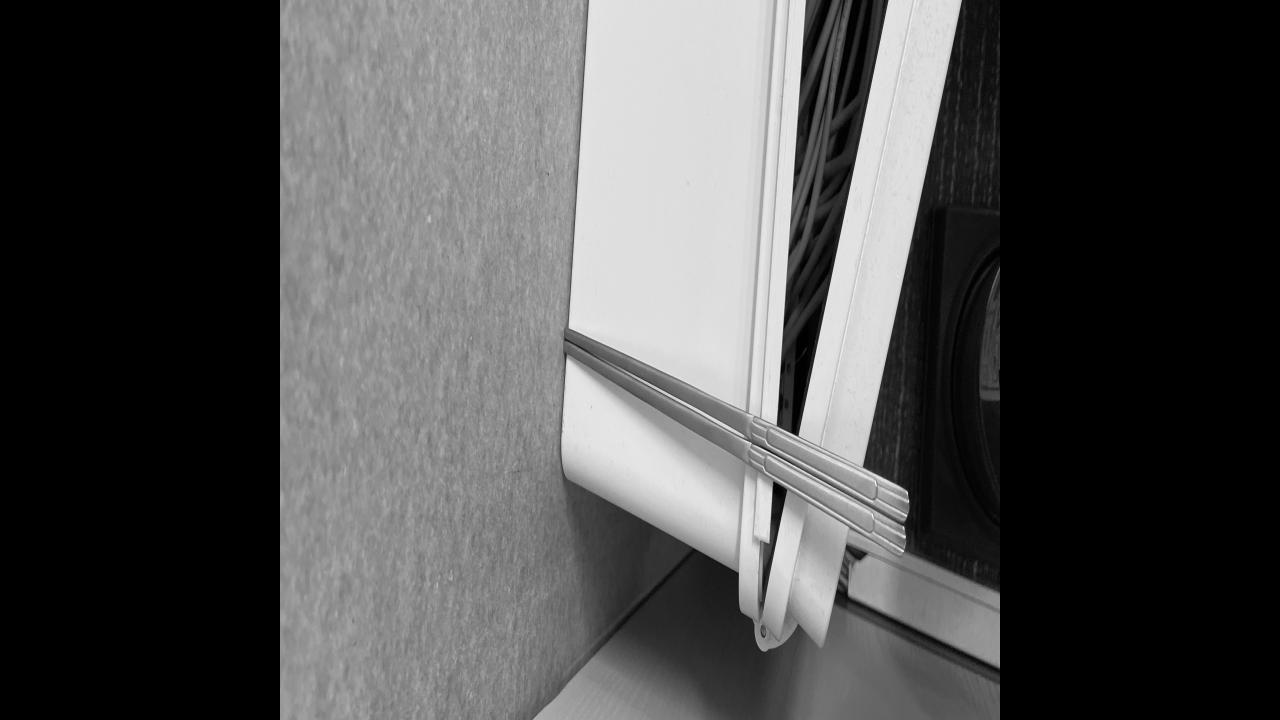chopstick: (560, 323, 906, 558)
